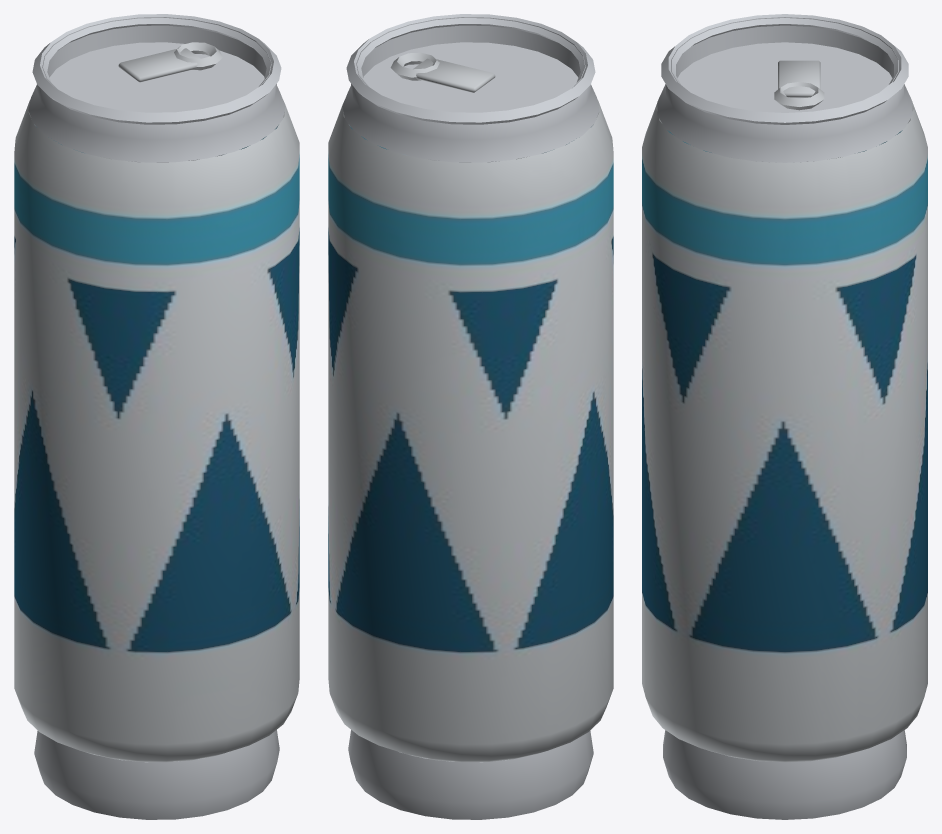
Rendered from can_tonic_sleek.glb.
3 views of the same model, side by side, from view 1: azimuth 30°, elevation 25°; view 2: azimuth 150°, elevation 25°; view 3: azimuth 270°, elevation 25° (orthographic).
Visible parts, largest first — view 1: can_tonic_sleek; view 2: can_tonic_sleek; view 3: can_tonic_sleek.
Boxes of the visible parts, left/top/right/bottom form: can_tonic_sleek: left=14, top=14, right=299, bottom=819; can_tonic_sleek: left=328, top=14, right=613, bottom=819; can_tonic_sleek: left=642, top=14, right=927, bottom=819.
Size of the model in its own units: 0.054 by 0.1474 by 0.054.
Materials: 4 (1 with a texture image).
